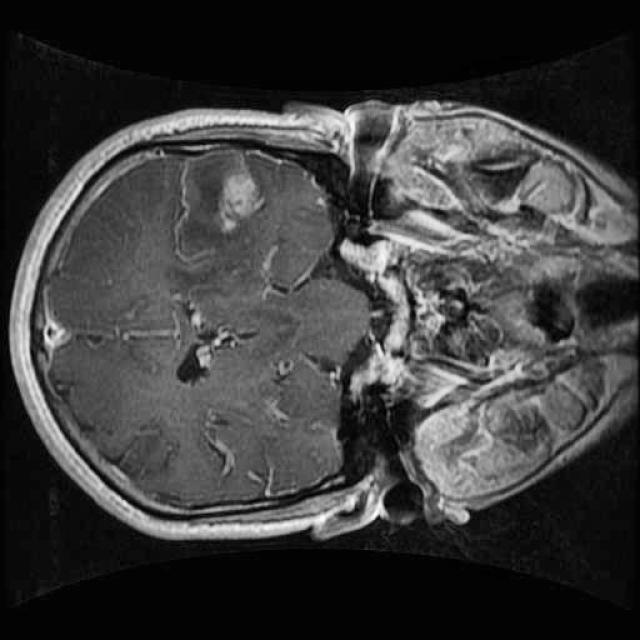Tumor: (198, 158, 278, 246)
